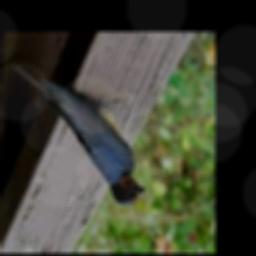Swallow: (12, 63, 144, 207)
